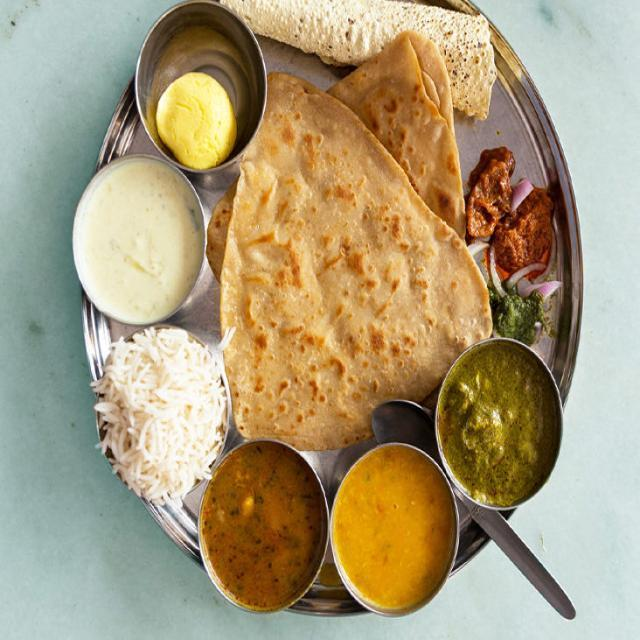dal: (333, 444, 460, 617), (196, 448, 331, 602)
papad: (211, 0, 393, 65), (402, 2, 498, 111)
rice: (100, 327, 225, 501), (206, 2, 438, 72)
roti: (216, 103, 483, 420)
sweet: (144, 19, 269, 175)
veg-fry: (471, 157, 565, 305)
